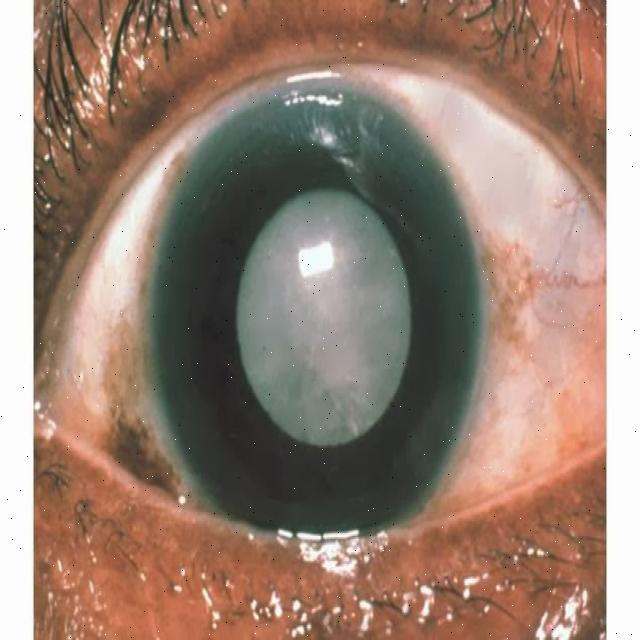Cataract: (142, 71, 488, 564)
